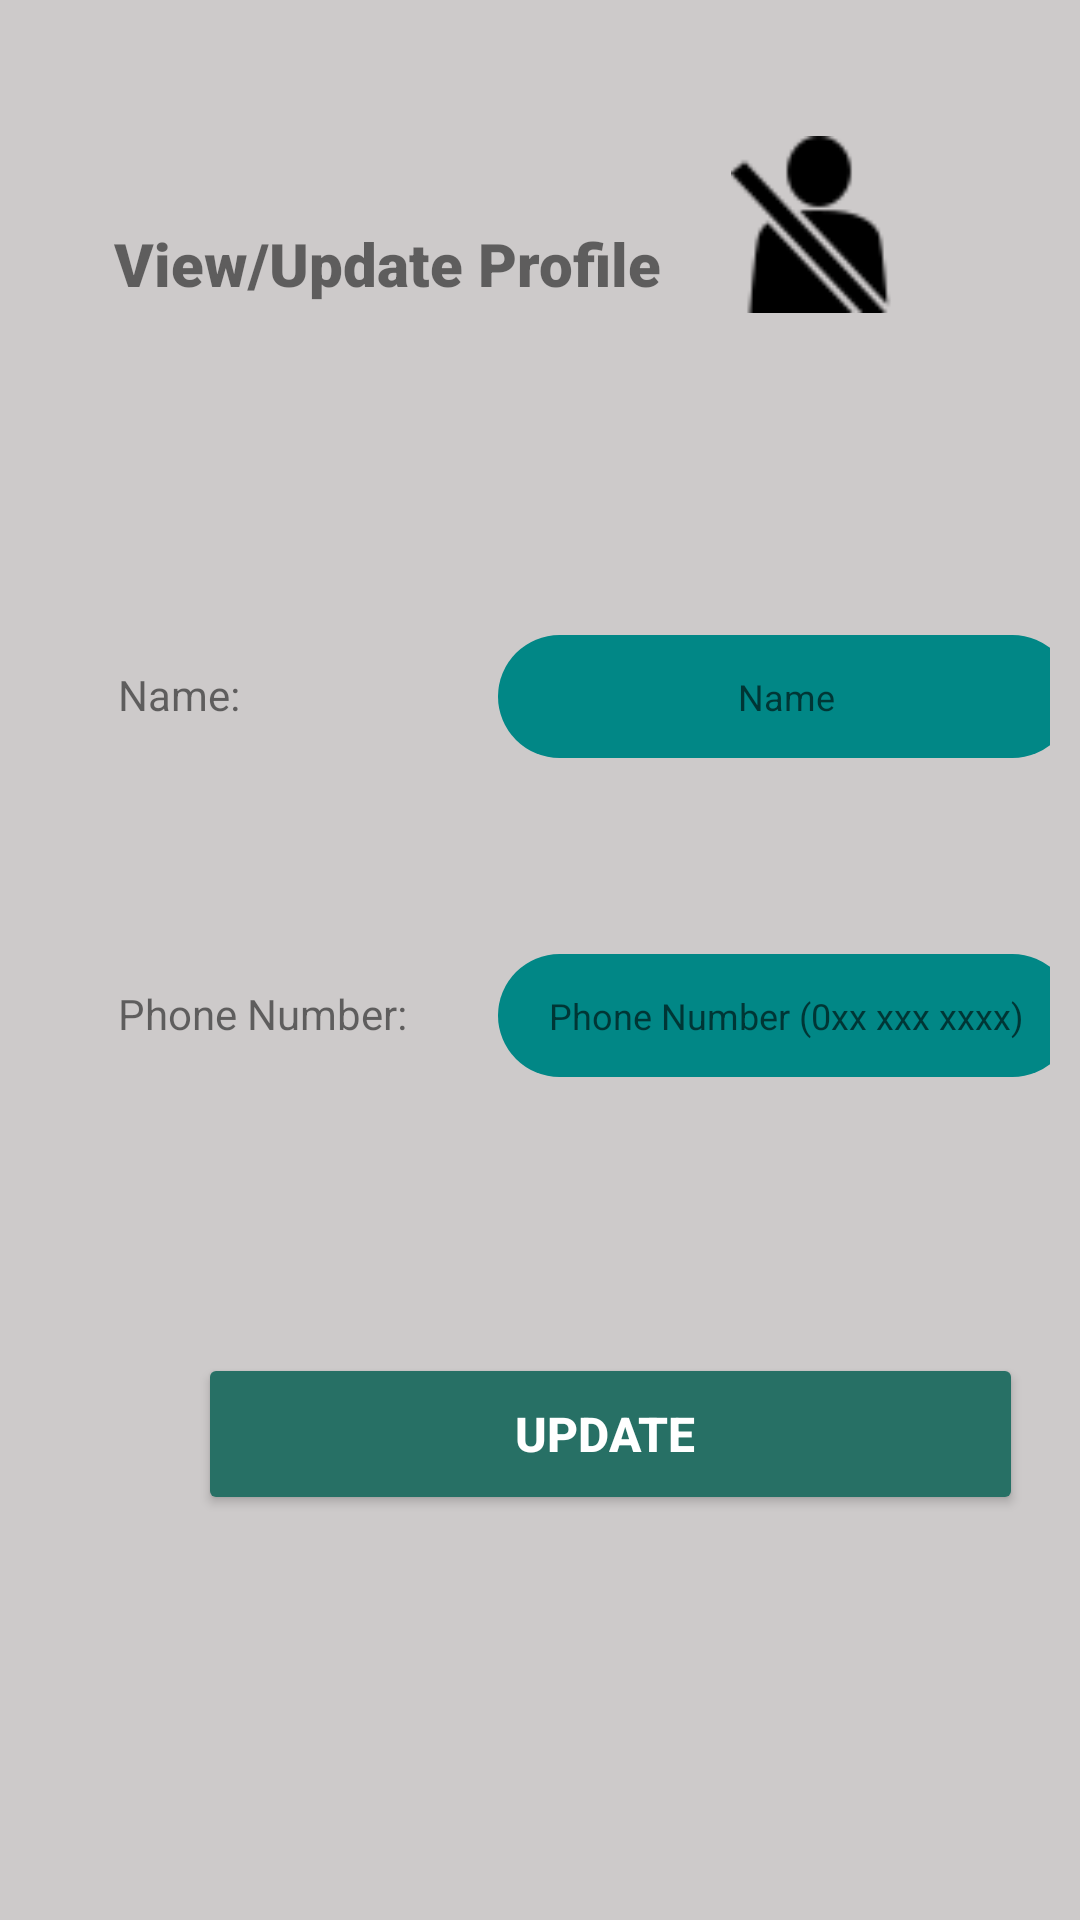

Icons on this 1080 x 1920 Android screen, each with the point to tap as (x=x, y=y):
passenger: (x=810, y=224)
